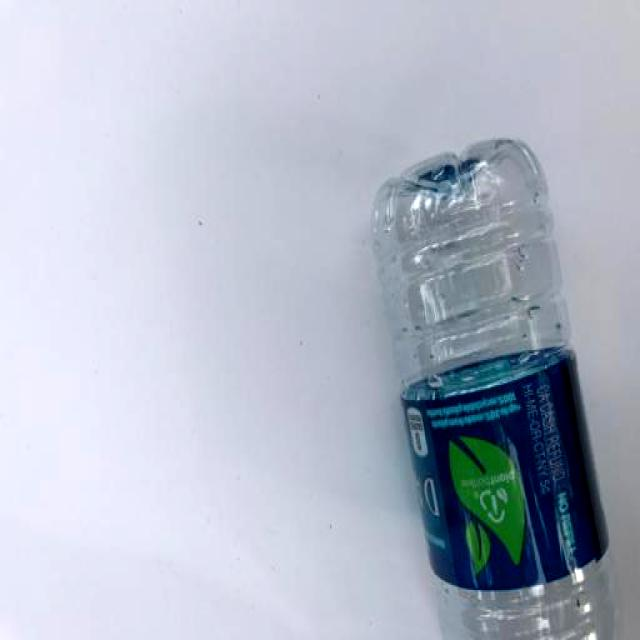Plastic: (373, 130, 640, 640)
